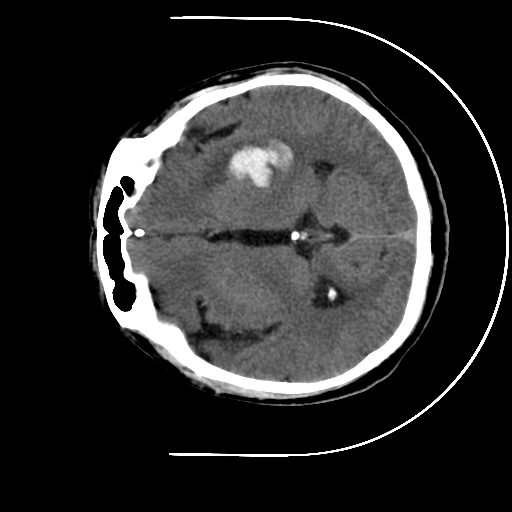a: (196, 131, 310, 205)
